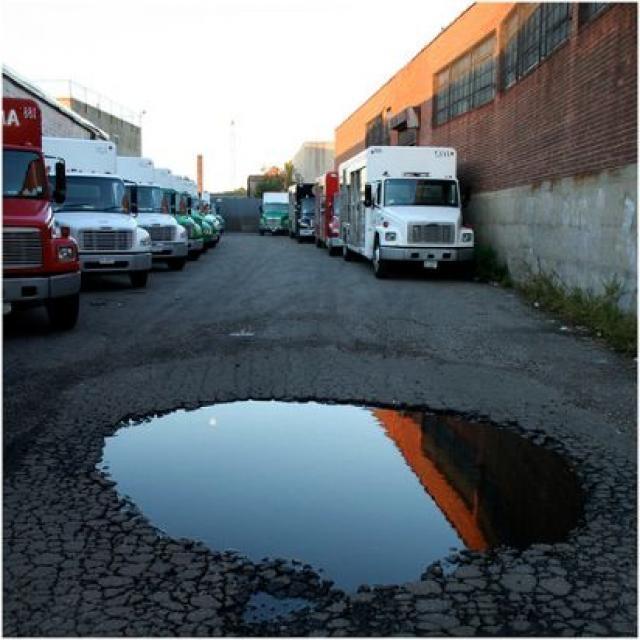pothole: (98, 390, 608, 592)
